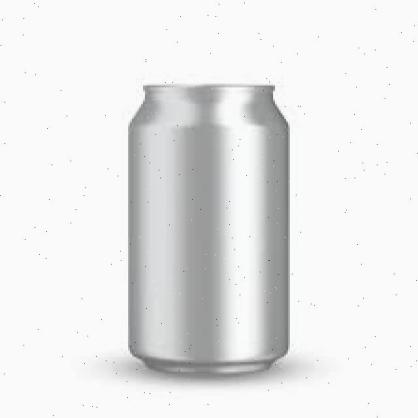can: (124, 80, 295, 378)
